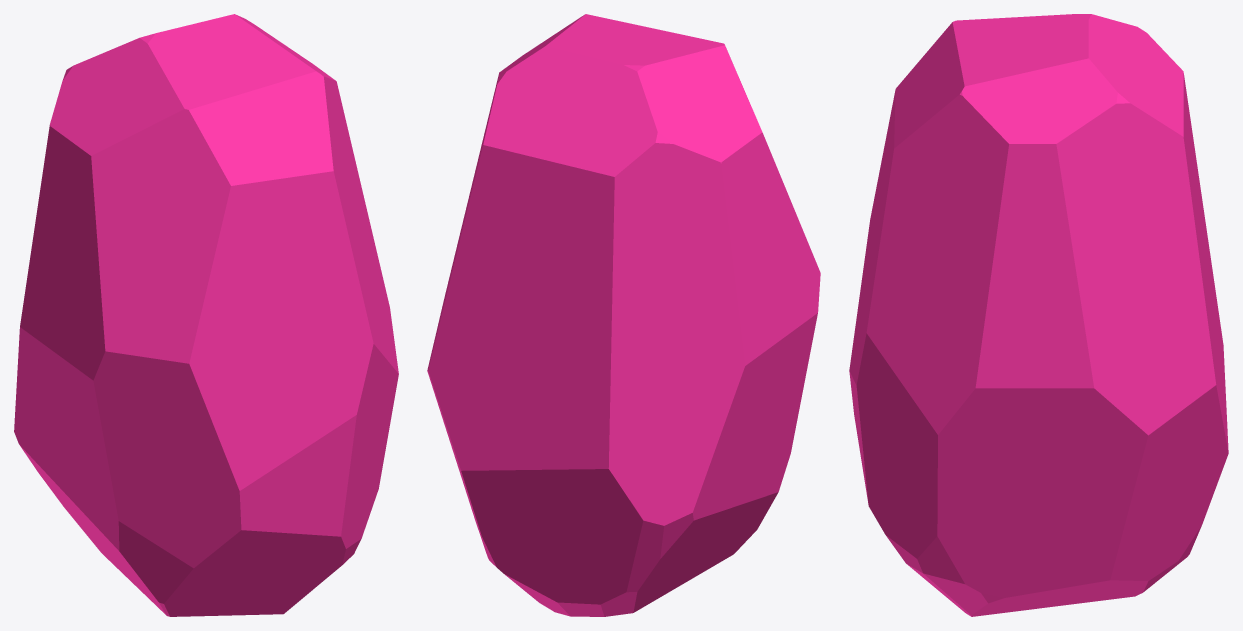
File: gem-1-compressed.gltf
3 views of the same model, side by side, from view 1: azimuth 30°, elevation 25°; view 2: azimuth 150°, elevation 25°; view 3: azimuth 270°, elevation 25° (orthographic). The views are drawn at different scales.
Parts seen in each view (by area): view 1: gem-1; view 2: gem-1; view 3: gem-1.
Boxes of the visible parts, box(x1,y1,x2,y2) form: gem-1: box(14, 14, 398, 616); gem-1: box(427, 14, 820, 616); gem-1: box(849, 14, 1228, 616).
Size of the model in its own units: 1.09 by 1.87 by 1.15.
